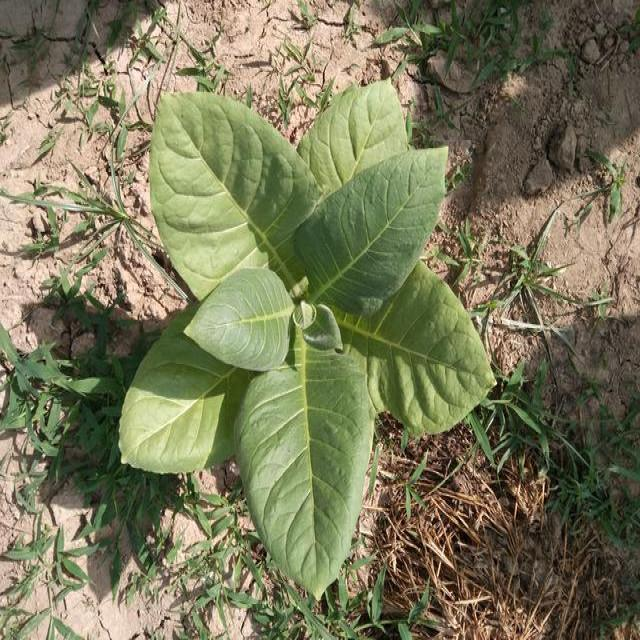crop: (119, 78, 498, 602)
